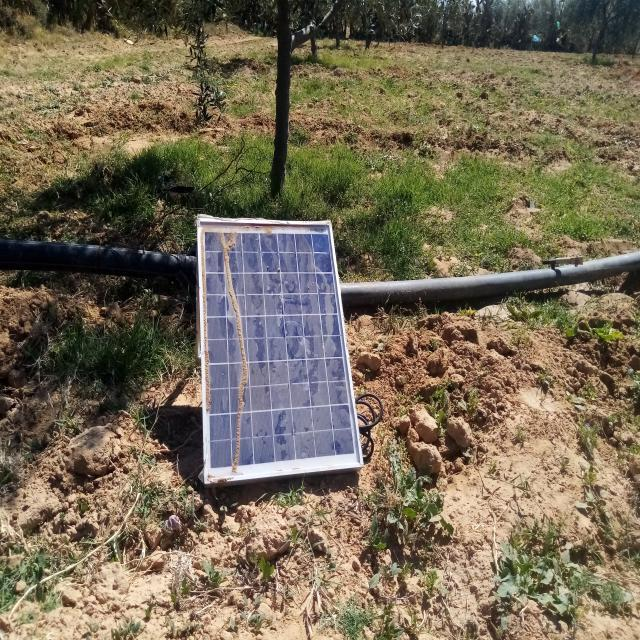faulty: (198, 219, 362, 481)
